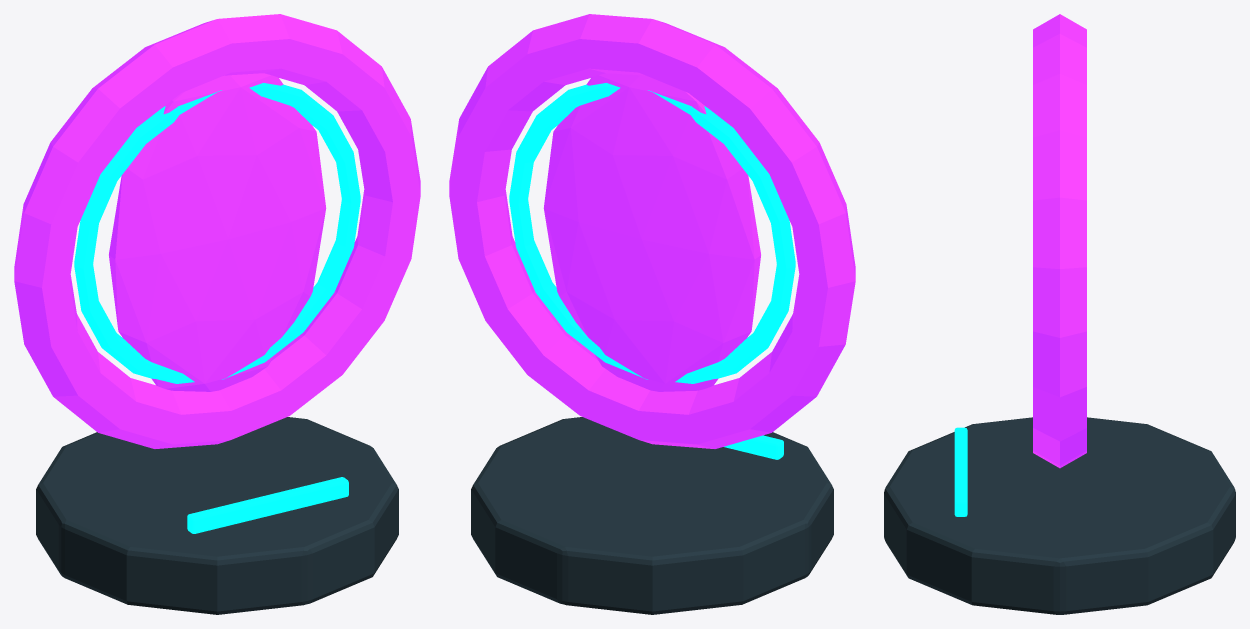
The model's file is Portal.glb.
The picture shows the model from 3 angles, left to right: view 1: azimuth 30°, elevation 25°; view 2: azimuth 150°, elevation 25°; view 3: azimuth 270°, elevation 25°; orthographic projection. The views are drawn at different scales.
Parts seen in each view (by area): view 1: Portal_Ring, Portal_Base, Portal_Field, Portal_InnerRing, Portal_BaseGlow; view 2: Portal_Ring, Portal_Base, Portal_Field, Portal_InnerRing, Portal_BaseGlow; view 3: Portal_Base, Portal_Ring, Portal_BaseGlow.
Part boxes in pixels (box(x1,y1,x2,y2)): Portal_Ring: box(14, 14, 420, 448); Portal_Base: box(36, 417, 398, 614); Portal_Field: box(109, 73, 326, 391); Portal_InnerRing: box(74, 83, 360, 383); Portal_BaseGlow: box(187, 477, 348, 533); Portal_Ring: box(449, 14, 855, 448); Portal_Base: box(471, 417, 833, 614); Portal_Field: box(543, 73, 760, 391); Portal_InnerRing: box(509, 83, 795, 383); Portal_BaseGlow: box(724, 435, 783, 459); Portal_Base: box(884, 417, 1235, 614); Portal_Ring: box(1033, 14, 1086, 468); Portal_BaseGlow: box(954, 427, 967, 516).
Size of the model in its own units: 1.76 by 2.16 by 1.35.
